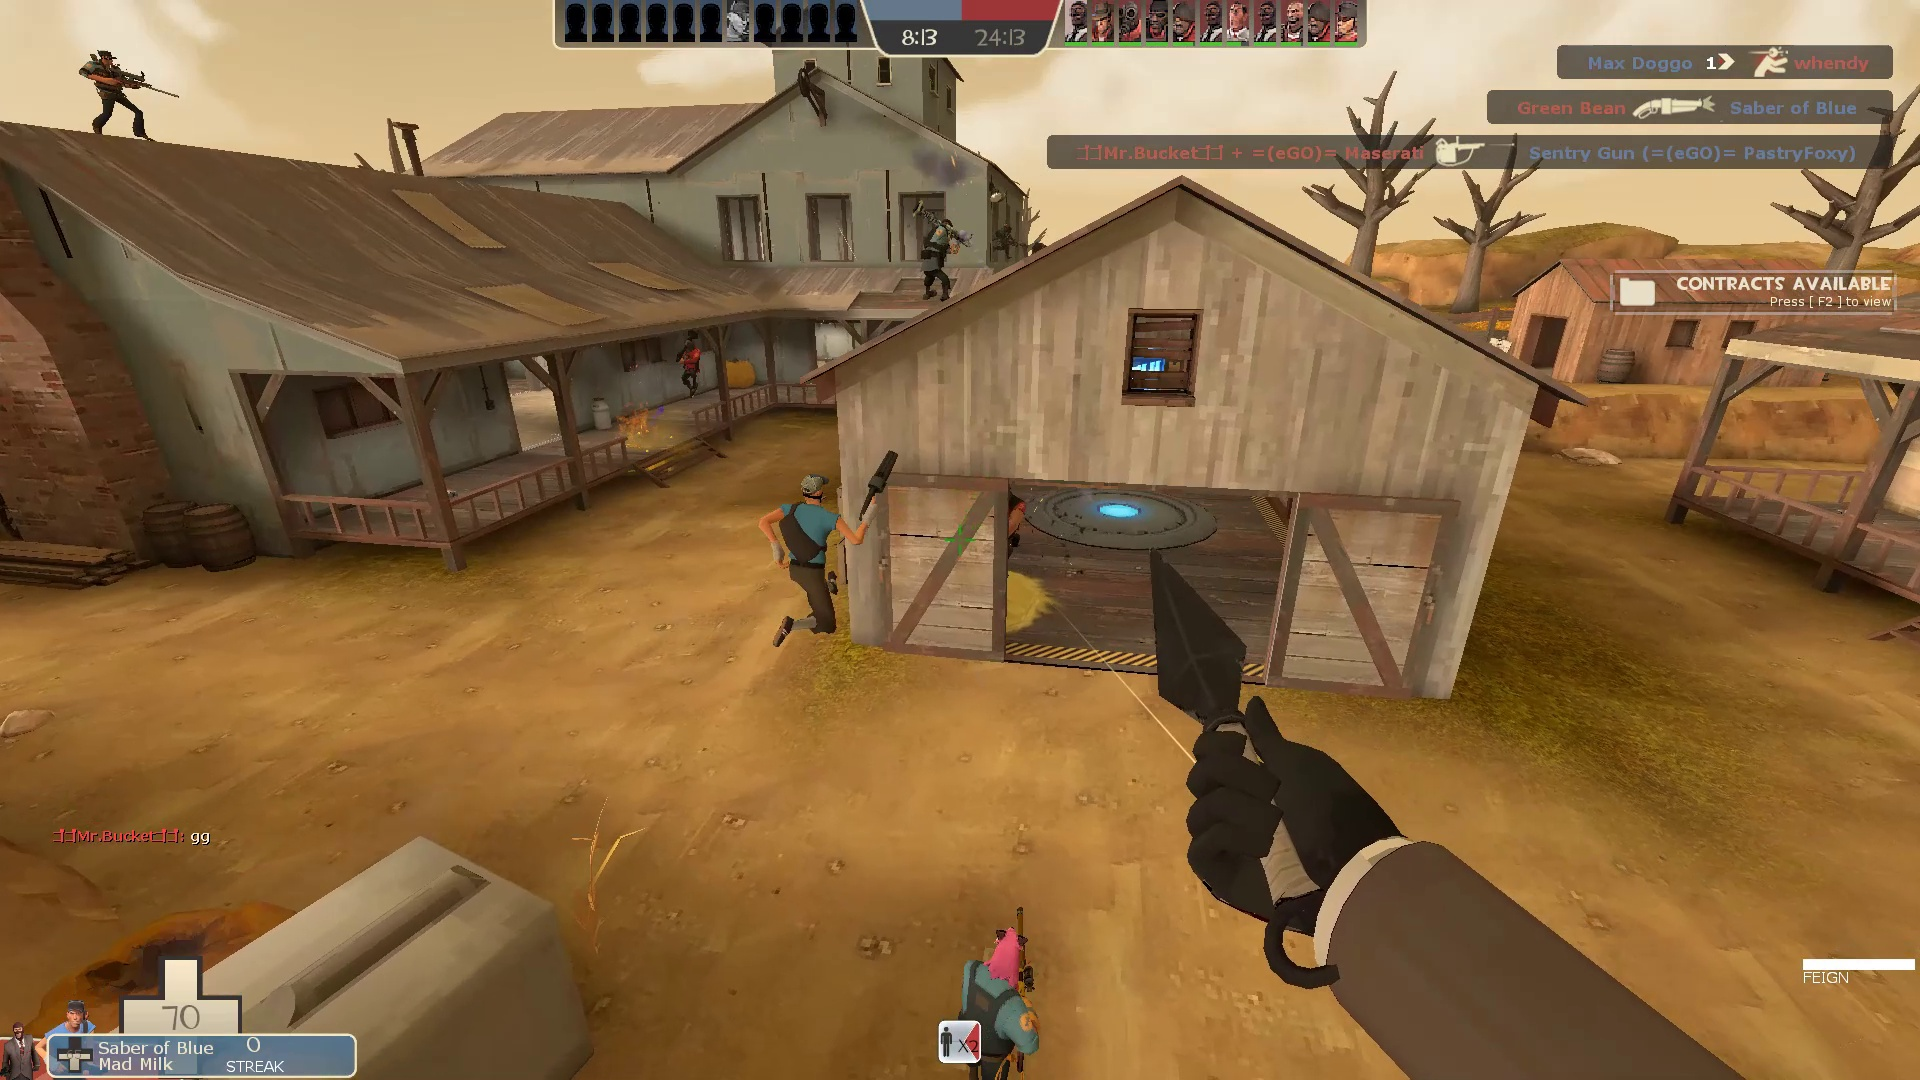blu_scout: (752, 440, 895, 654), (943, 905, 1054, 1079)
blu_sniper: (74, 40, 178, 154)
blu_soldier: (906, 200, 976, 306)
red_soldier: (673, 336, 705, 396)
